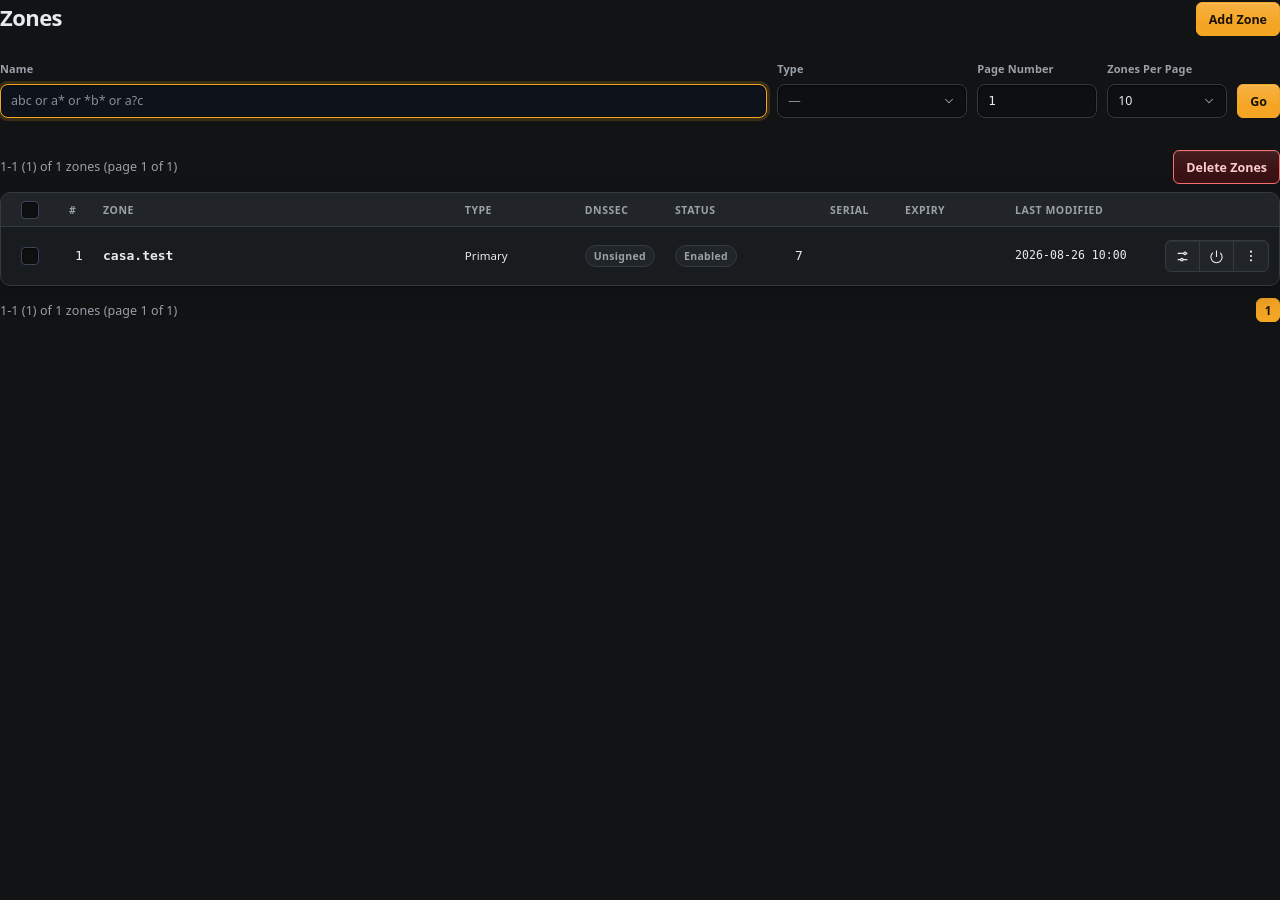
Scenario: zone list › delete lives in the row menu, not loose next to "Disable"
Expected: the button "casa.test" is shown, [103, 246, 174, 266]
Click the button named "Actions for casa.test" at coordinates (1251, 256), box [1234, 241, 1268, 271]
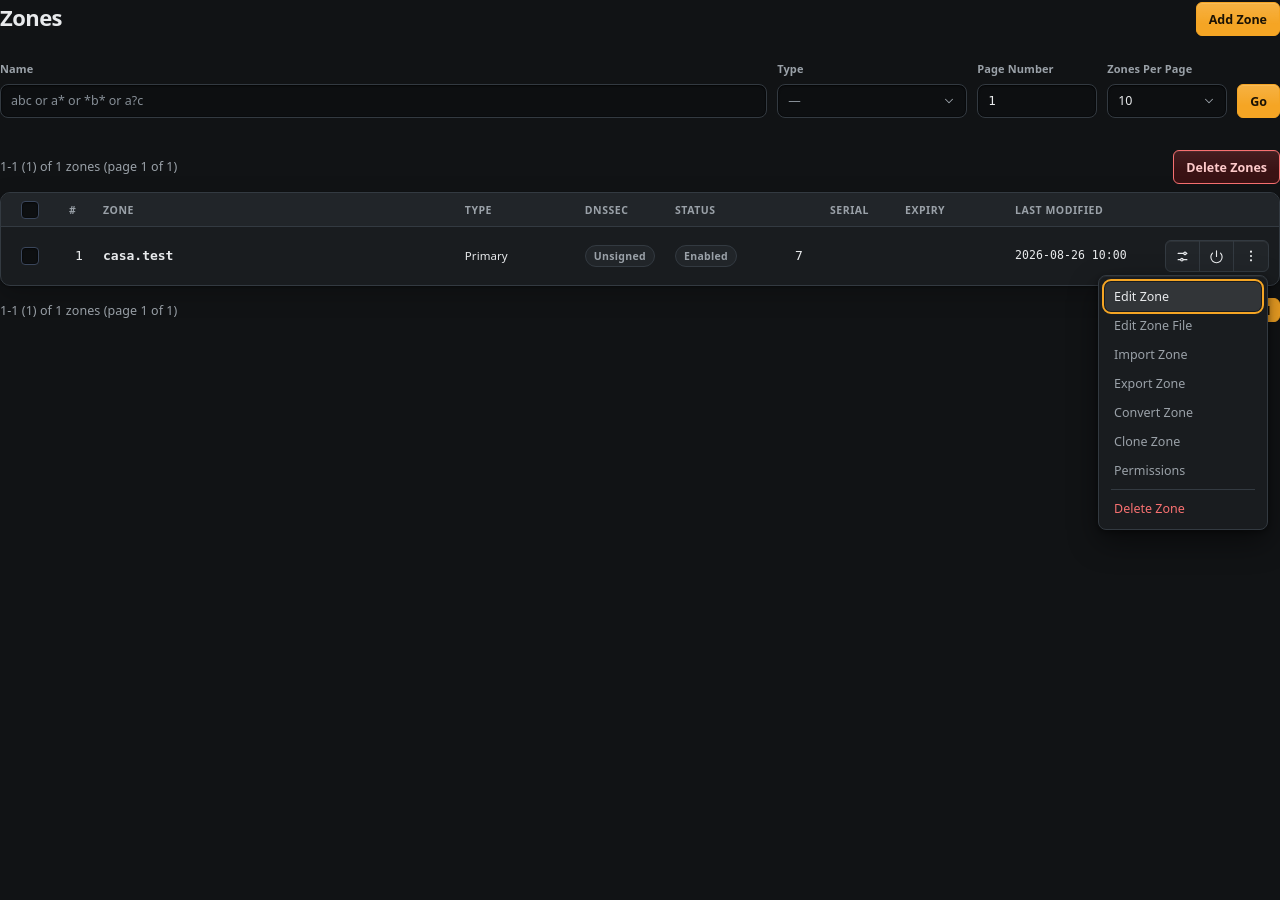
Click the menu item "Delete Zone" at coordinates (1183, 509), box [1105, 494, 1261, 523]
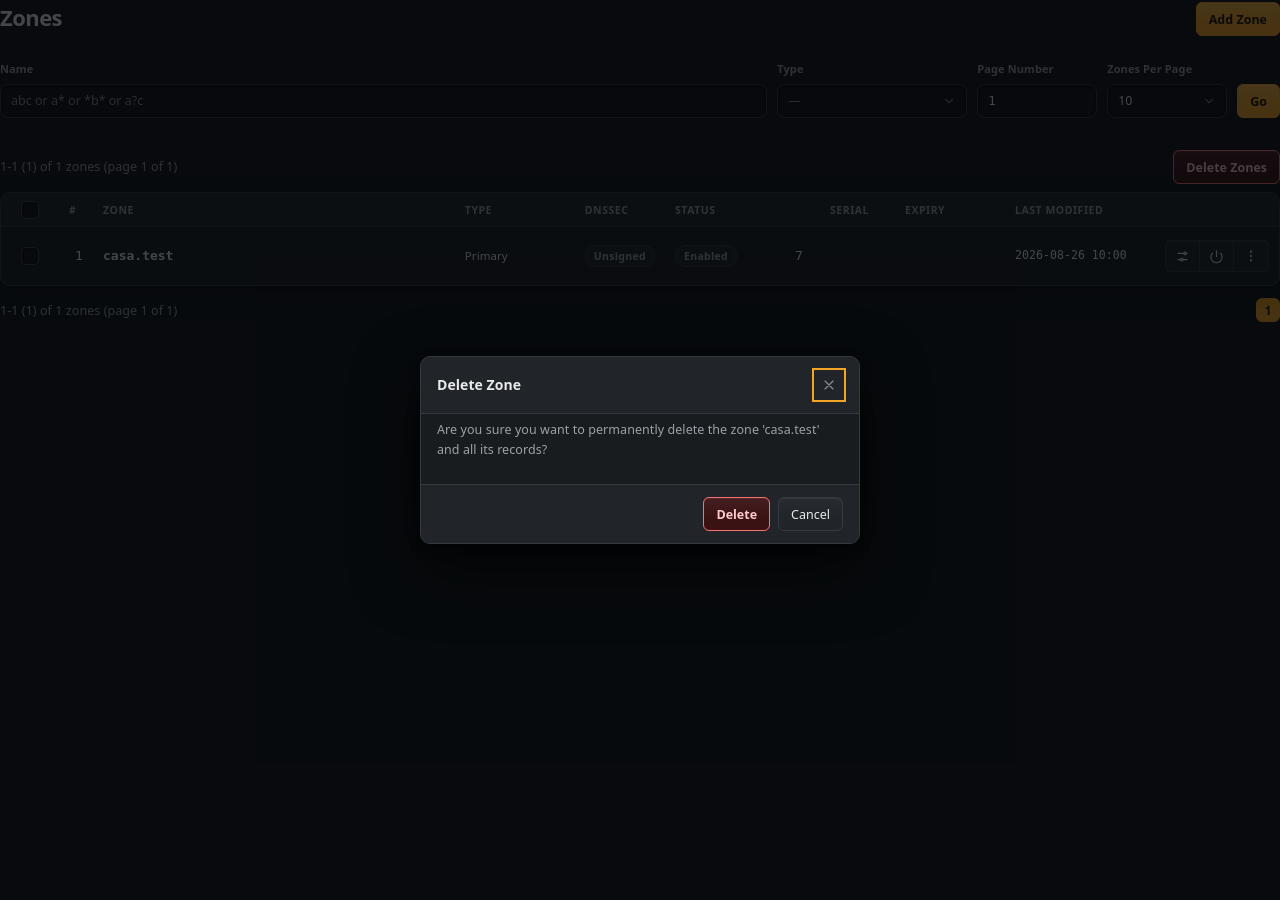
Now the text "Are you sure you want to permanently delete the zone 'casa.test' and all its records?" is shown, box [437, 421, 823, 458]
